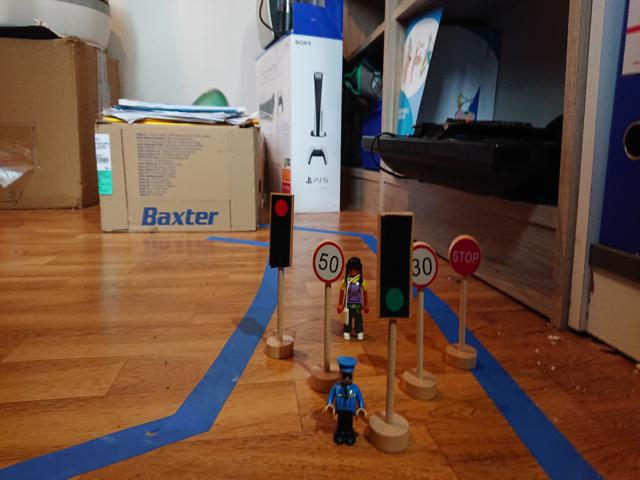30 speed sign: (407, 246, 438, 289)
50 speed sign: (310, 243, 344, 283)
green light: (379, 218, 408, 319)
person: (324, 356, 366, 447), (335, 257, 370, 342)
red light: (272, 197, 290, 264)
stop sign: (446, 236, 483, 275)
